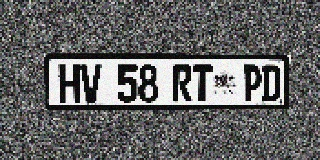5: (118, 65, 138, 103)
8: (139, 65, 158, 102)
D: (261, 65, 281, 101)
H: (59, 64, 80, 103)
P: (242, 65, 262, 101)
R: (173, 65, 192, 102)
T: (192, 65, 212, 102)
V: (81, 64, 102, 103)
